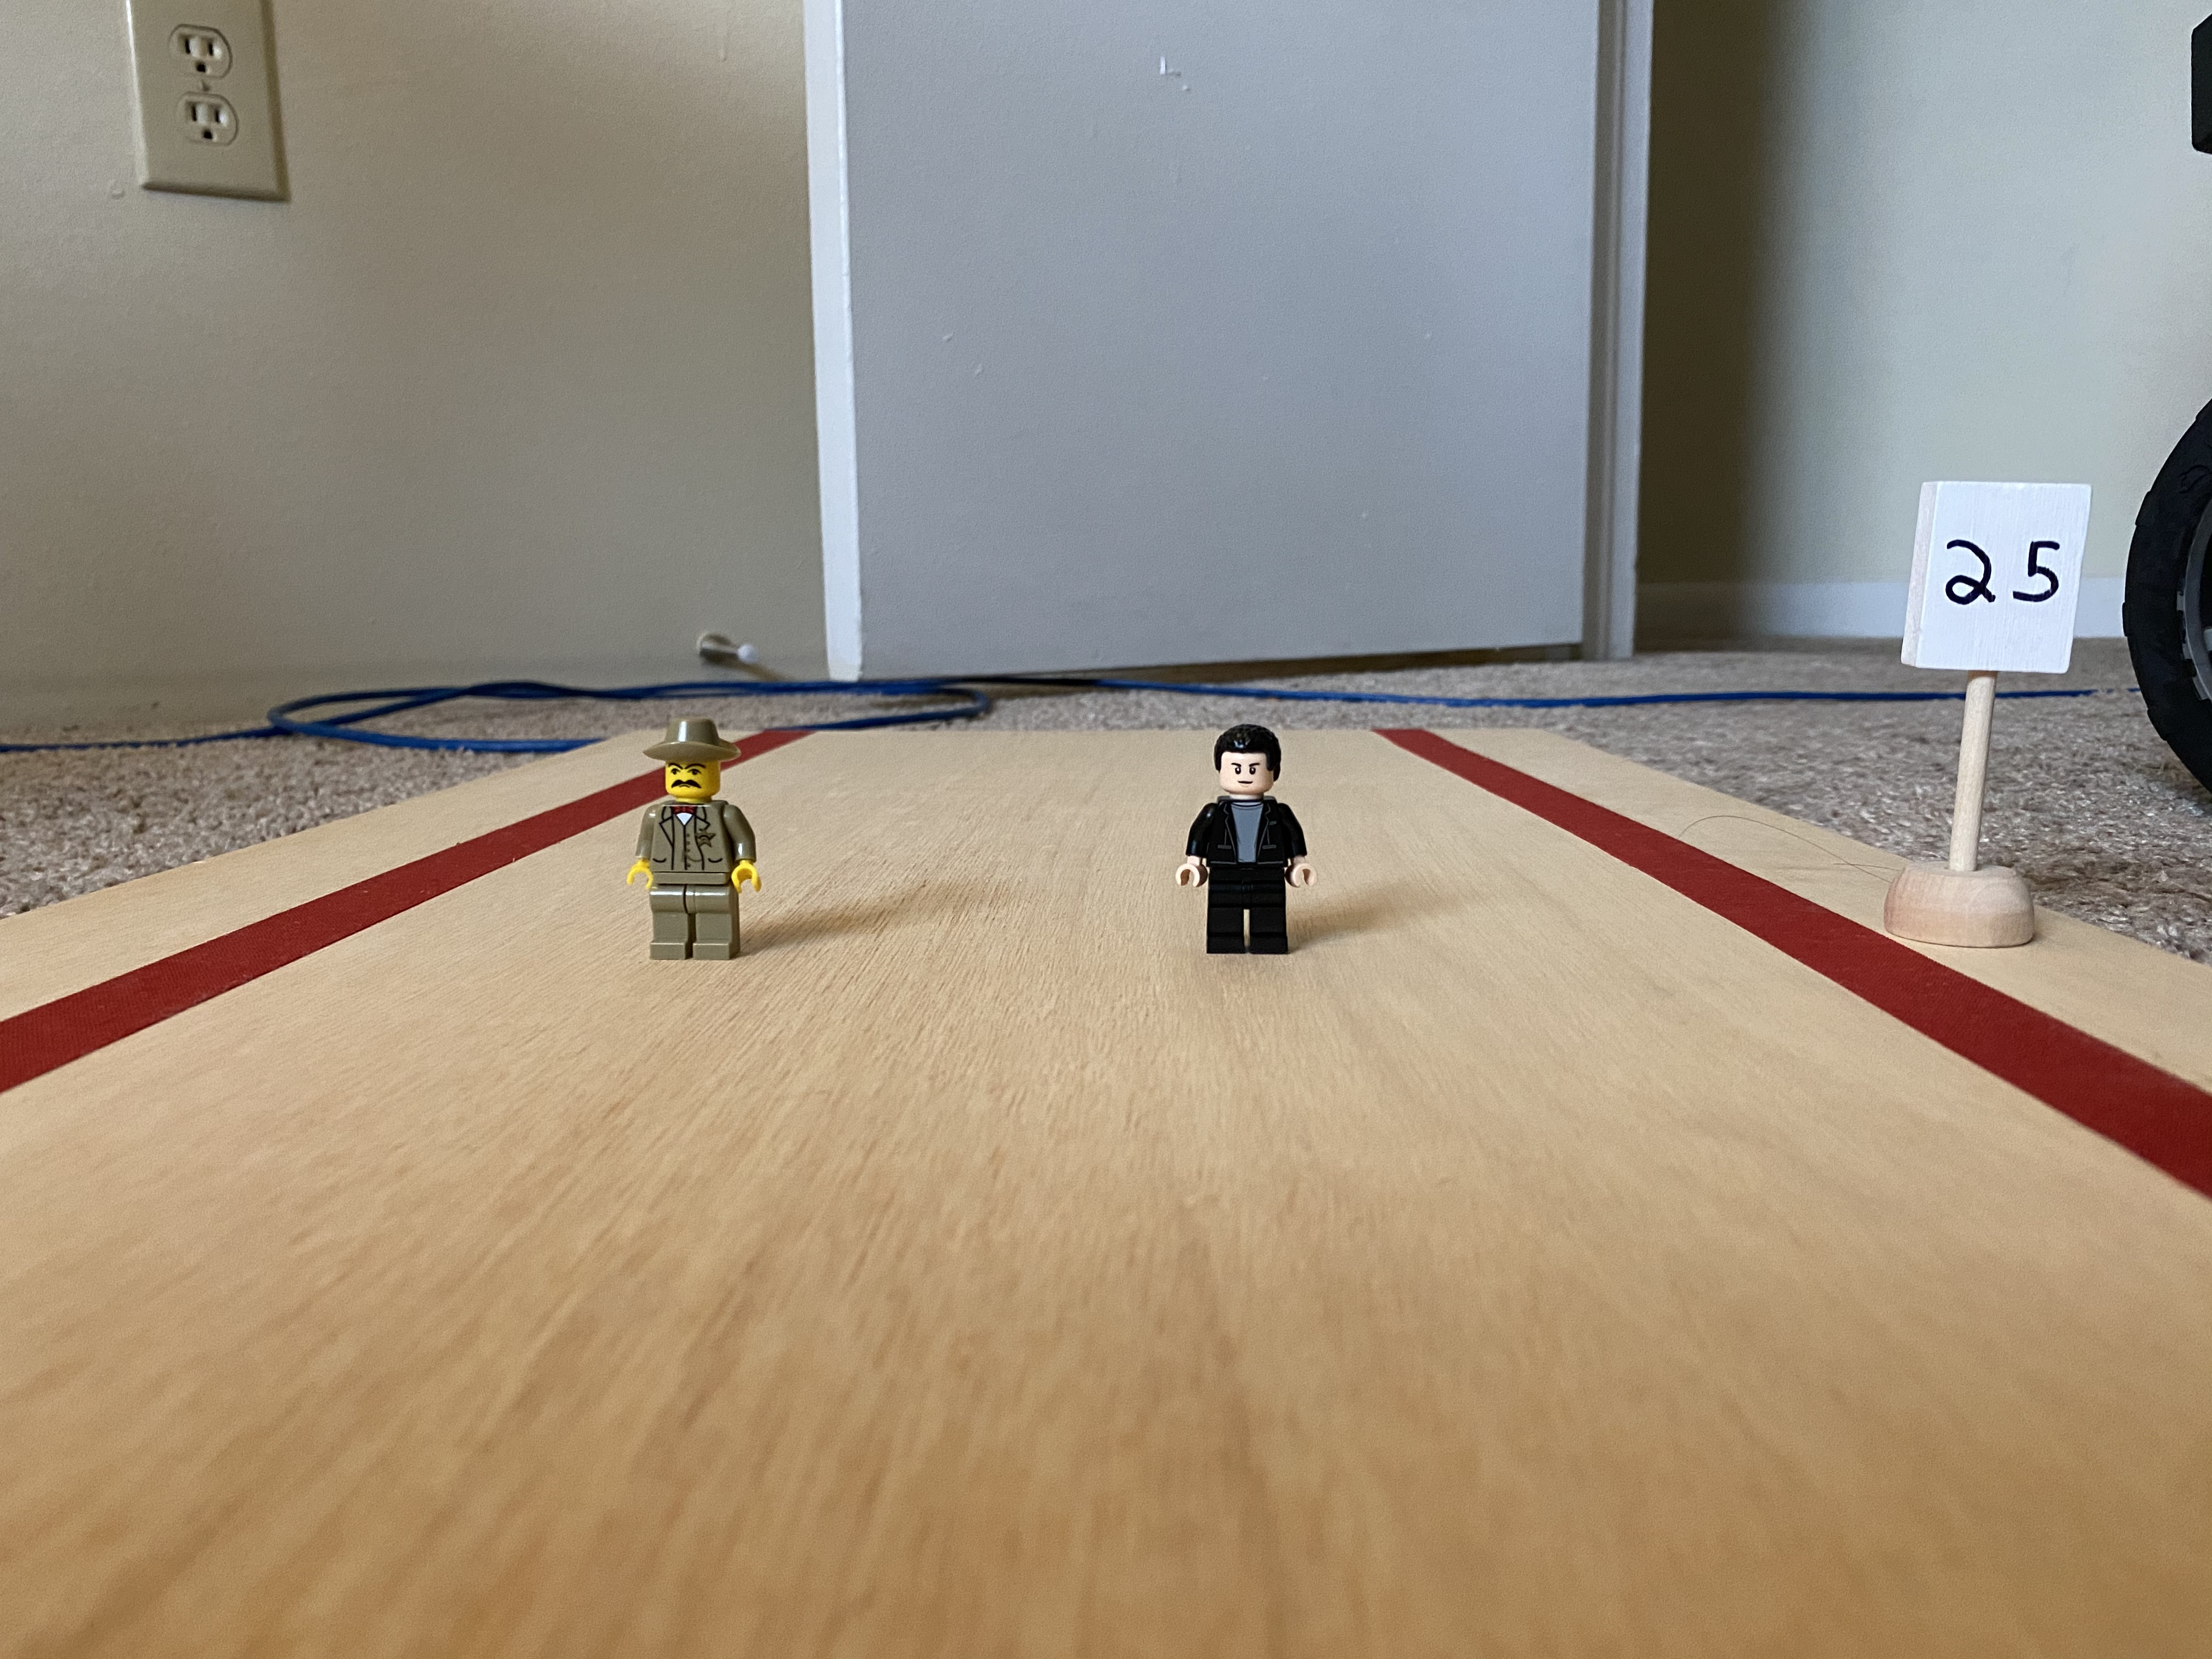Person: (608, 706, 804, 985), (1156, 706, 1339, 980)
